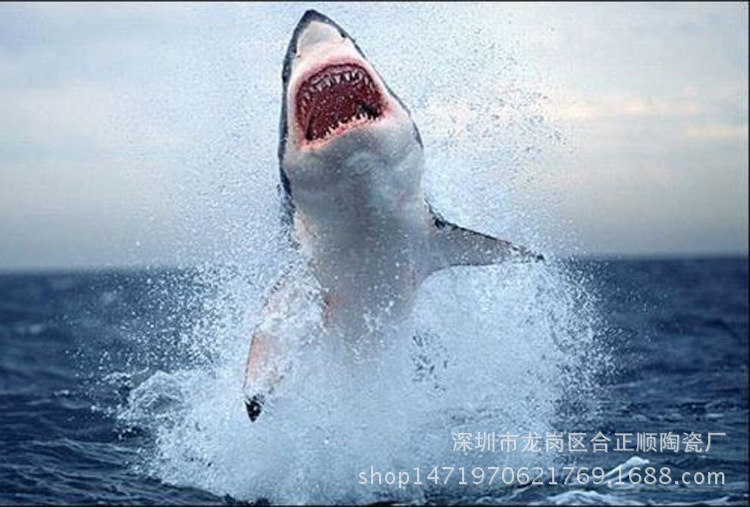fish: (202, 5, 551, 433)
